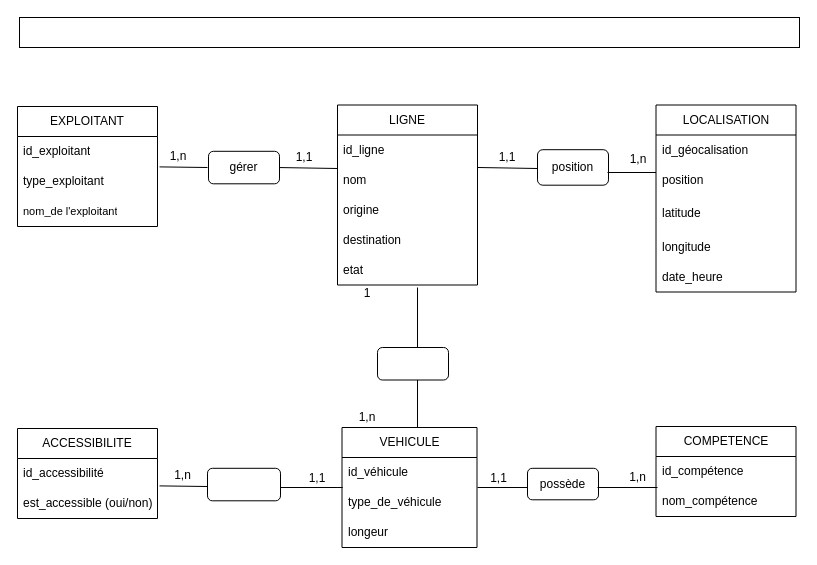
The diagram is 817 pixels wide and 565 high, and some of its shapes have lost their labels. Each missing label, with the centre of its shape:
"Modèle Conceptuel de Données pour la Gestion des Lignes de Bus en Ile-de-France" belongs at pixel 409 32.
"offre" belongs at pixel 243 484.
"utiliser" belongs at pixel 412 363.
